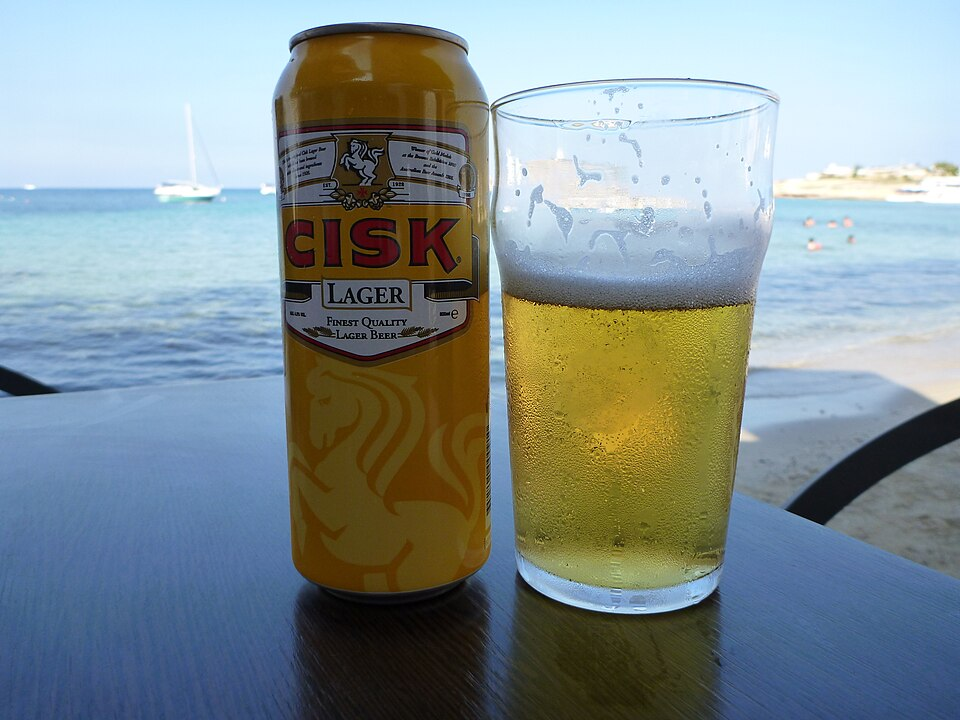beer-can: (266, 16, 499, 618)
